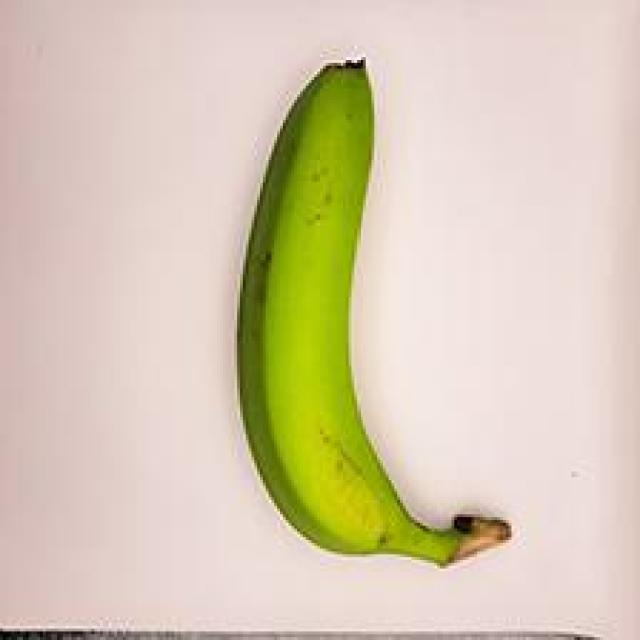Unripe: (199, 31, 531, 591)
